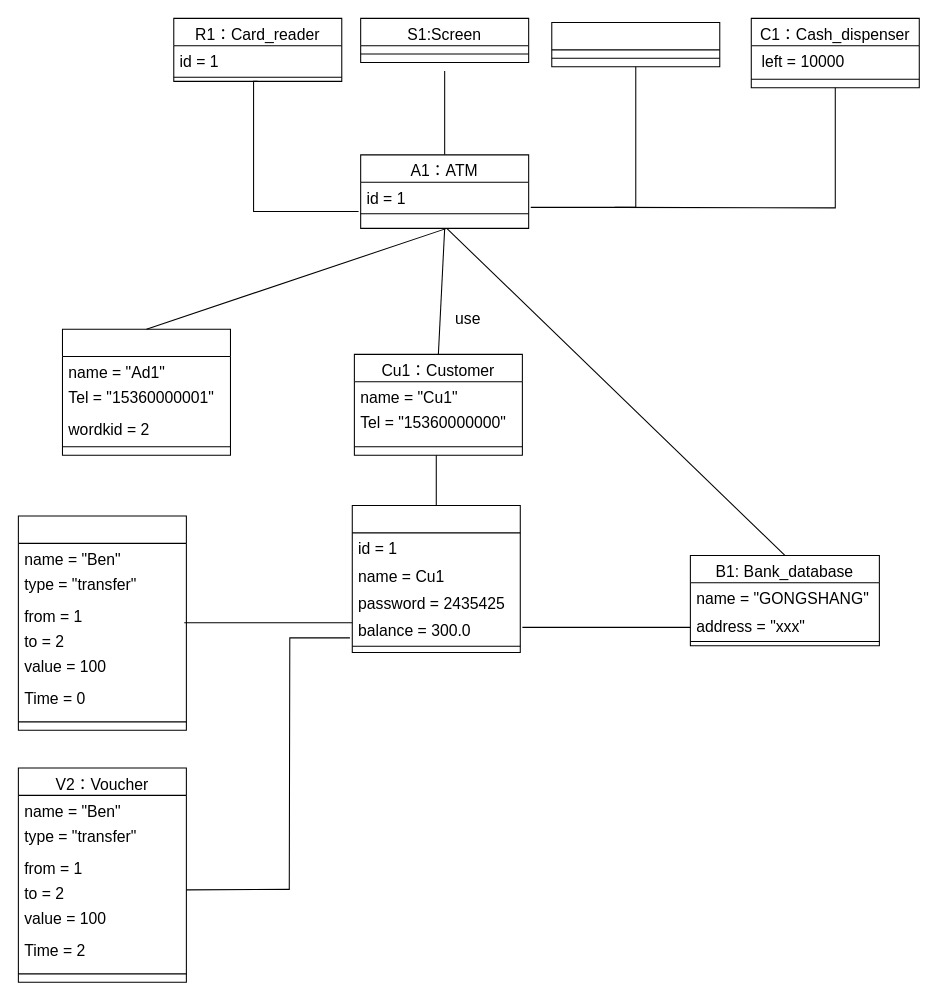
Image size: 938x1001. Some labels were removed from this diagram. Here are the shapes that lost their labels. From the top down, the box of each, then its label:
(551, 22, 720, 67): K1:Keyboard
(61, 328, 230, 455): Ad1：Admin
(351, 505, 520, 653): Ac1：Account
(17, 515, 186, 730): V1：Voucher
